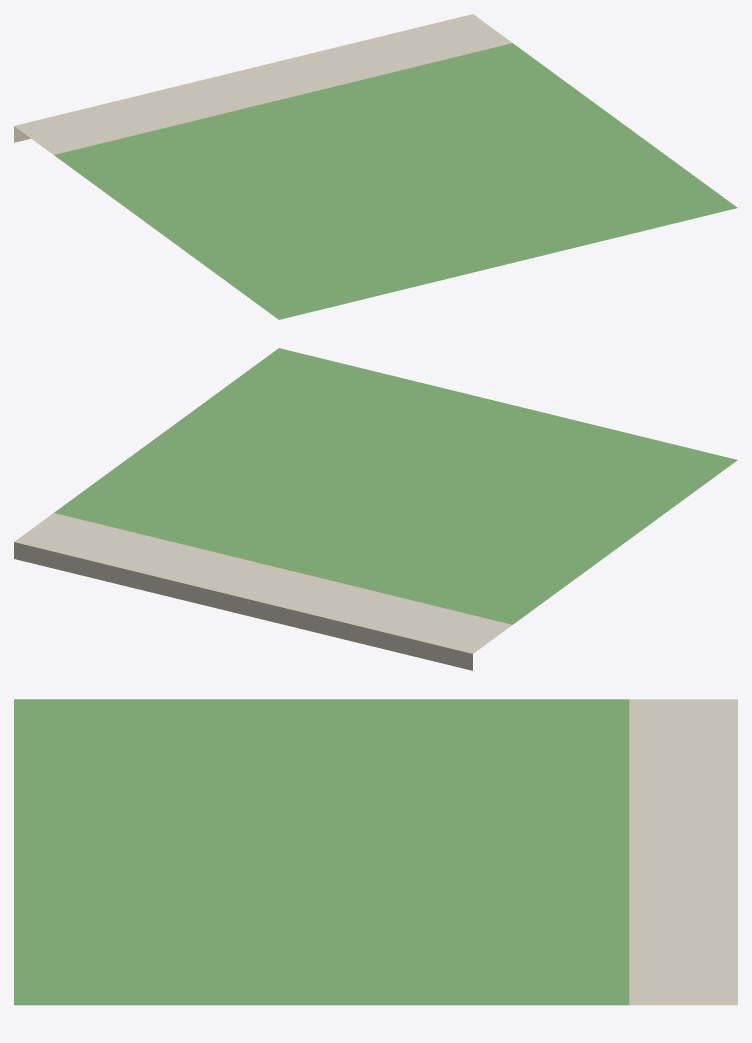
The model's file is grass_pavement.fbx.
The picture shows the model from 3 angles, top to bottom: view 1: azimuth 30°, elevation 25°; view 2: azimuth 150°, elevation 25°; view 3: azimuth 270°, elevation 25°; orthographic projection. The views are drawn at different scales.
Visible parts, largest first — view 1: grass_pavement; view 2: grass_pavement; view 3: grass_pavement.
Part boxes in pixels (x1=…): grass_pavement: x1=14, y1=14, x2=737, y2=319; grass_pavement: x1=14, y1=348, x2=737, y2=670; grass_pavement: x1=14, y1=699, x2=737, y2=1005.
Bounding box in the file's own units: 1000 × 35.23 × 1000.
